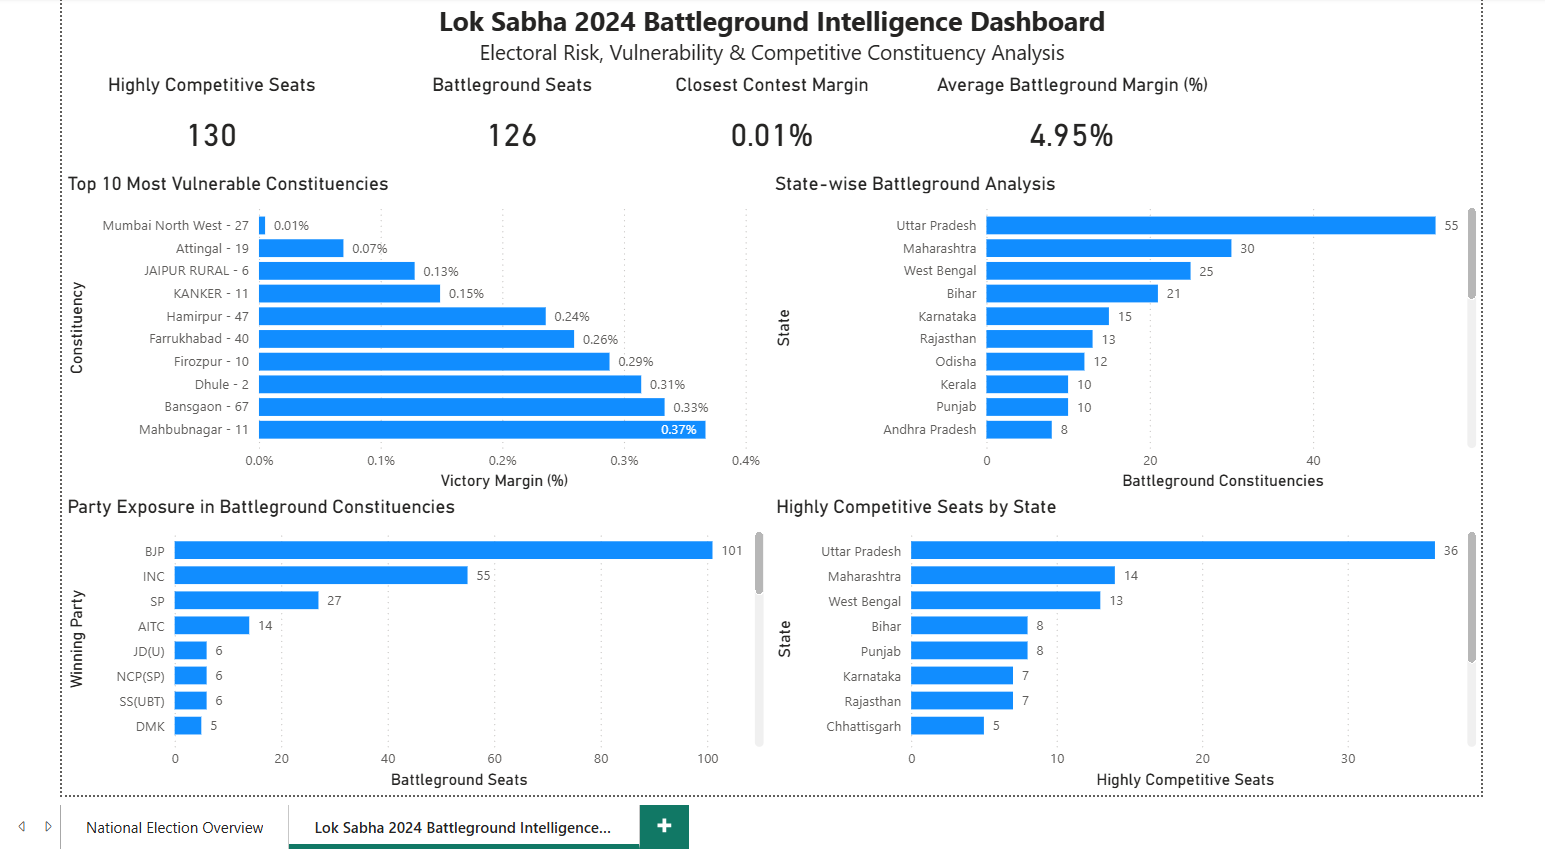

The page's visual inventory and layout, read from the dashboard file:
{"tool":"powerbi","page":{"name":"Lok Sabha 2024 Battleground Intelligence Dashboard","canvas":[1280,720],"ordinal":1},"visuals":[{"type":"textbox","box":[0,0,1280.3,69.2],"z":0},{"type":"card","title":"Highly Competitive Seats","fields":{"Values":["CountNonNull(Constituency_Summary (2).Constituency)"]},"box":[0,69,269.9,89.3],"z":1},{"type":"card","title":"Battleground Seats","fields":{"Values":["CountNonNull(Constituency_Summary (2).Constituency)"]},"box":[270.7,68.7,270.7,88.9],"z":2},{"type":"card","title":"Closest Contest Margin","fields":{"Values":["Min(Constituency_Summary (2).Victory Margin %)"]},"box":[505.1,68.7,270.7,88.9],"z":3},{"type":"card","title":"Average Battleground Margin (%)","fields":{"Values":["Avg(Constituency_Summary (2).Victory Margin %)"]},"box":[775.8,68.7,270.7,88.9],"z":4},{"type":"clusteredBarChart","title":"Top 10 Most Vulnerable Constituencies","fields":{"Category":["Constituency_Summary (2).Constituency"],"Y":["Max(Constituency_Summary (2).Victory Margin %)"]},"box":[0,157.8,637.9,291.9],"z":5},{"type":"clusteredBarChart","title":"State-wise Battleground Analysis","fields":{"Category":["Constituency_Summary (2).State"],"Y":["CountNonNull(Constituency_Summary (2).Battleground Flag)"]},"box":[637.9,157.8,642.5,291.9],"z":6},{"type":"barChart","title":"Party Exposure in Battleground Constituencies","fields":{"Category":["Constituency_Summary (2).Winning Party"],"Y":["CountNonNull(Constituency_Summary (2).Constituency)"]},"box":[0,449.7,637.9,269.4],"z":7},{"type":"clusteredBarChart","fields":{"Category":["Constituency_Summary (2).State"],"Y":["CountNonNull(Constituency_Summary (2).Constituency)"]},"box":[639.1,449.7,641.3,269.4],"z":8}]}

Visuals, with their boxes on the page's 1280x720 design canvas (x1, y1, x2, y2). These are canvas units, not pixel positions in the 1545x849 screenshot, which may show the page scaled, cropped or inside an application window:
textbox: (0,0,1280,69)
"Highly Competitive Seats" card: (0,69,270,158)
"Battleground Seats" card: (271,69,541,158)
"Closest Contest Margin" card: (505,69,776,158)
"Average Battleground Margin (%)" card: (776,69,1046,158)
"Top 10 Most Vulnerable Constituencies" clusteredBarChart: (0,158,638,450)
"State-wise Battleground Analysis" clusteredBarChart: (638,158,1280,450)
"Party Exposure in Battleground Constituencies" barChart: (0,450,638,719)
clusteredBarChart - Constituency_Summary (2).State x CountNonNull(Constituency_Summary (2).Constituency): (639,450,1280,719)
